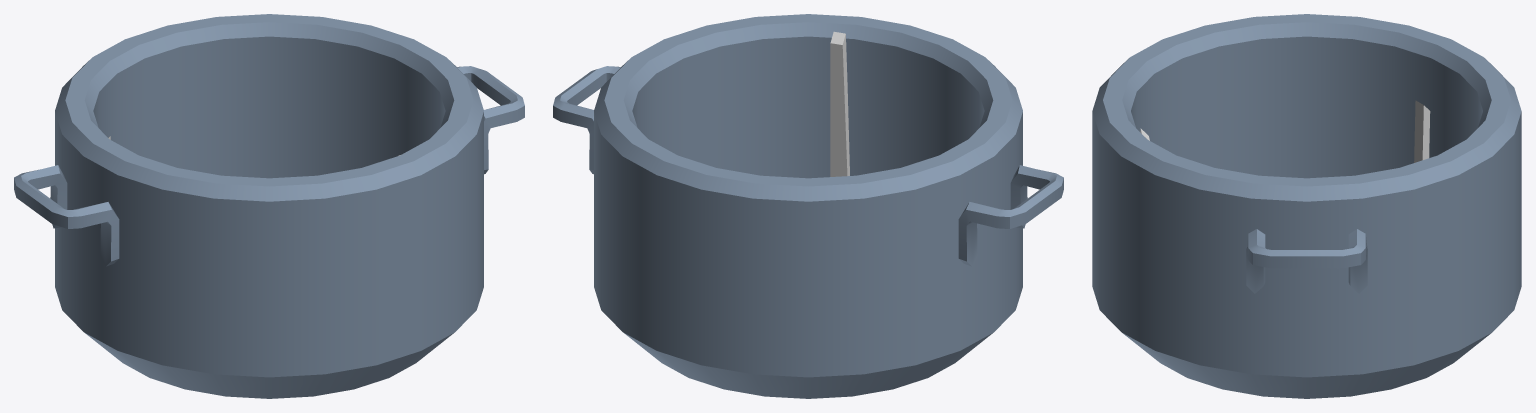
File: Pot2.fbx
3 renders of one model, left to right at view 1: azimuth 30°, elevation 25°; view 2: azimuth 150°, elevation 25°; view 3: azimuth 270°, elevation 25°, orthographic.
Parts seen in each view (by area): view 1: Environment_Pot_1_Filled; view 2: Environment_Pot_1_Filled, Cylinder; view 3: Environment_Pot_1_Filled, Cylinder.
Part boxes in pixels (bbox=[...]): Environment_Pot_1_Filled: bbox=[14, 14, 524, 398]; Environment_Pot_1_Filled: bbox=[553, 14, 1063, 398]; Cylinder: bbox=[830, 31, 849, 176]; Environment_Pot_1_Filled: bbox=[1092, 14, 1521, 398]; Cylinder: bbox=[1140, 100, 1430, 162].
Bounding box in the file's own units: 158 × 73.1 × 125.
